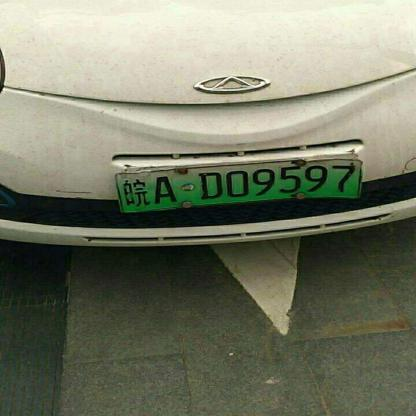lp: (117, 160, 364, 212)
